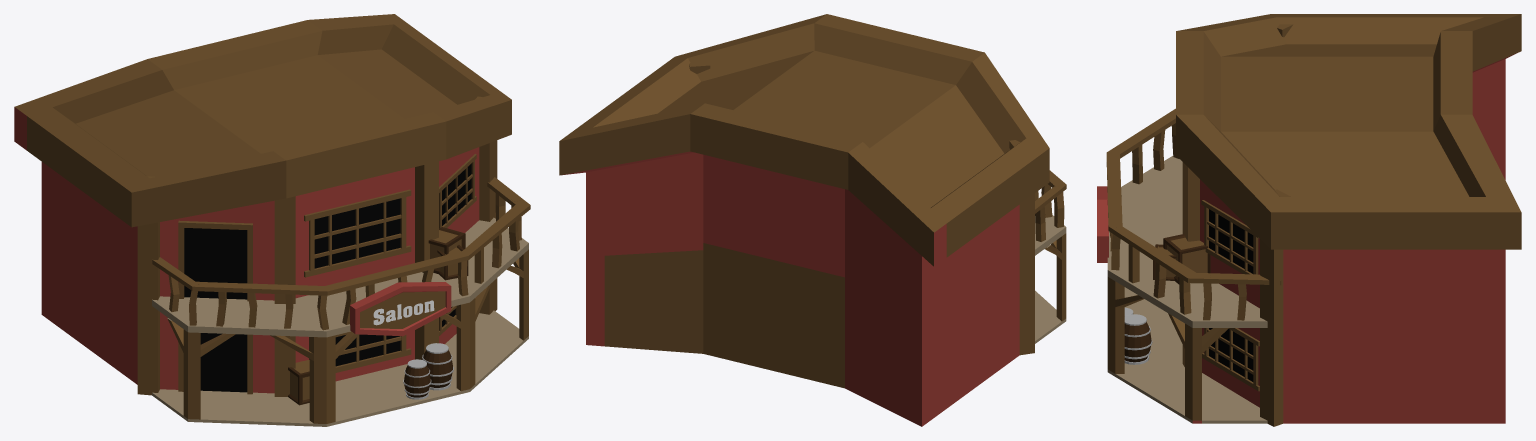
Rendered from Saloon.fbx.
3 views of the same model, side by side, from view 1: azimuth 30°, elevation 25°; view 2: azimuth 150°, elevation 25°; view 3: azimuth 270°, elevation 25° (orthographic). The views are drawn at different scales.
Parts seen in each view (by area): view 1: Saloon, Sign, Big barrel, Lil Barrel, Crate down, Big crate up, Sign text; view 2: Saloon; view 3: Saloon, Big barrel, Big crate up, Sign.
Boxes of the visible parts, bbox=[...] form: Saloon: bbox=[14, 14, 530, 426]; Sign: bbox=[350, 282, 451, 336]; Big barrel: bbox=[422, 343, 453, 390]; Lil Barrel: bbox=[403, 359, 431, 399]; Crate down: bbox=[288, 360, 309, 405]; Big crate up: bbox=[428, 227, 465, 273]; Sign text: bbox=[373, 300, 434, 325]; Saloon: bbox=[559, 14, 1066, 426]; Saloon: bbox=[1106, 14, 1521, 426]; Big barrel: bbox=[1124, 314, 1152, 364]; Big crate up: bbox=[1163, 234, 1210, 284]; Sign: bbox=[1097, 186, 1108, 262].
Bounding box in the file's own units: 1060 × 653 × 962.
